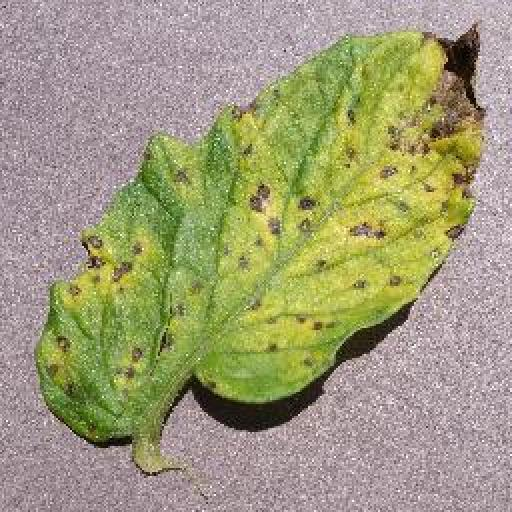Septoria: (35, 22, 488, 446)
